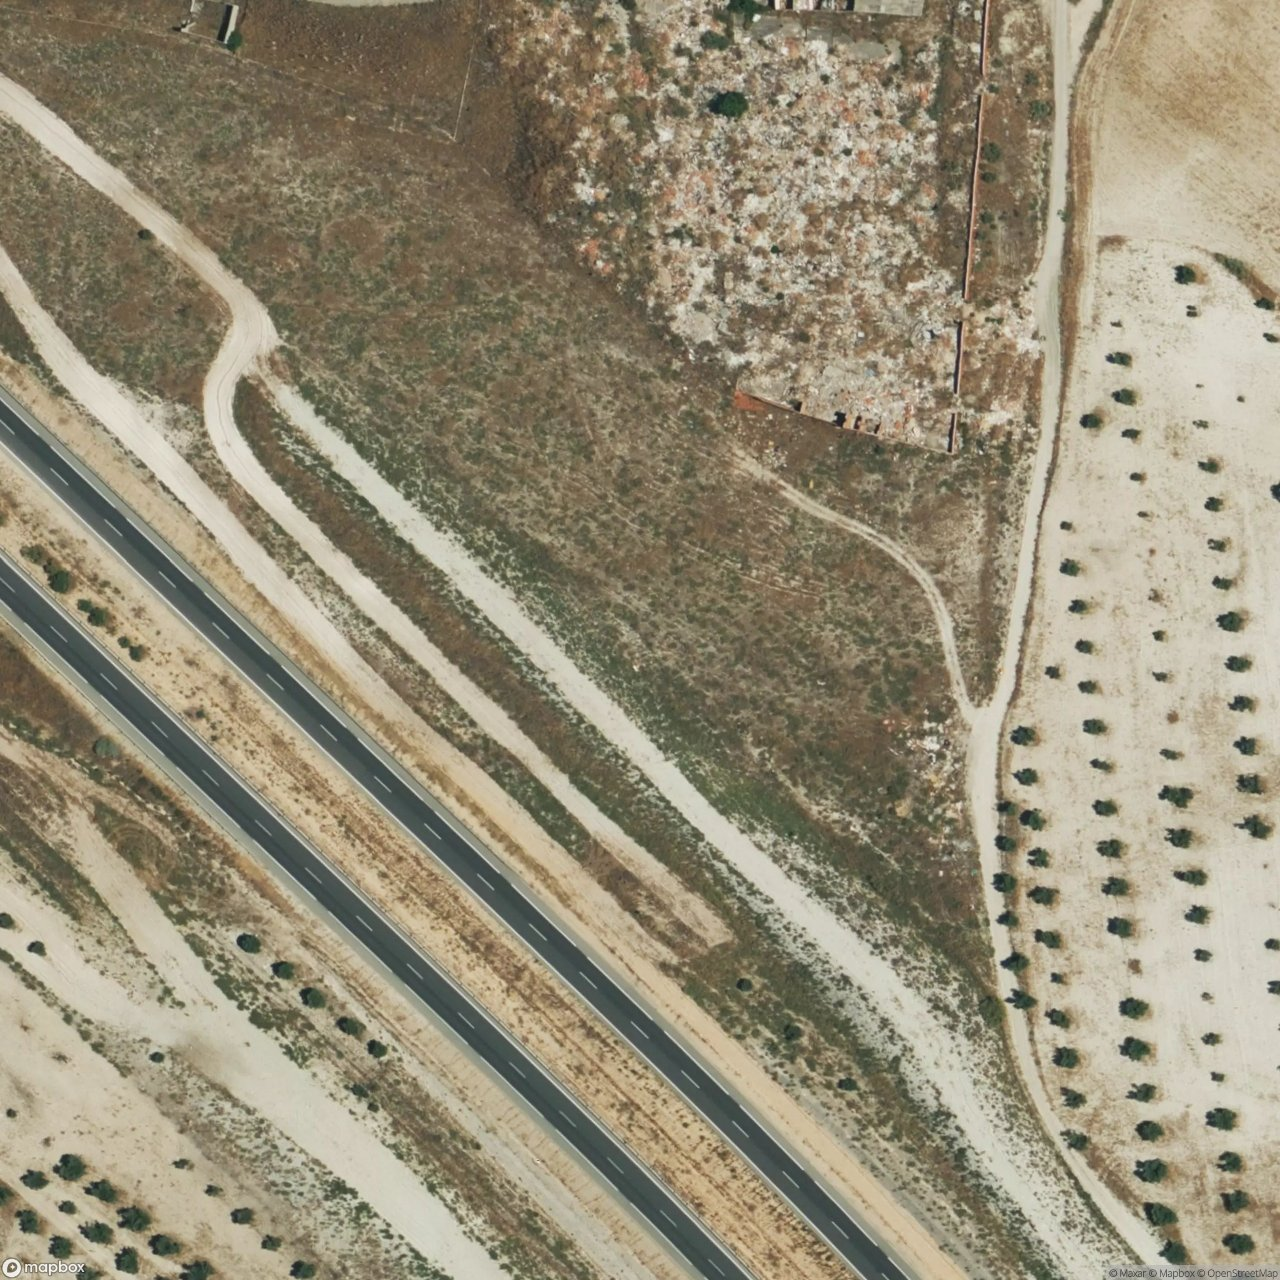dump_site: (565, 9, 953, 463)
